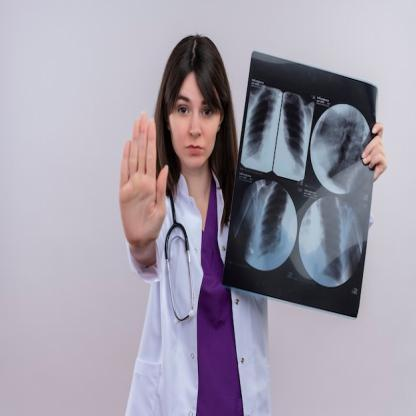stop: (114, 110, 172, 246)
